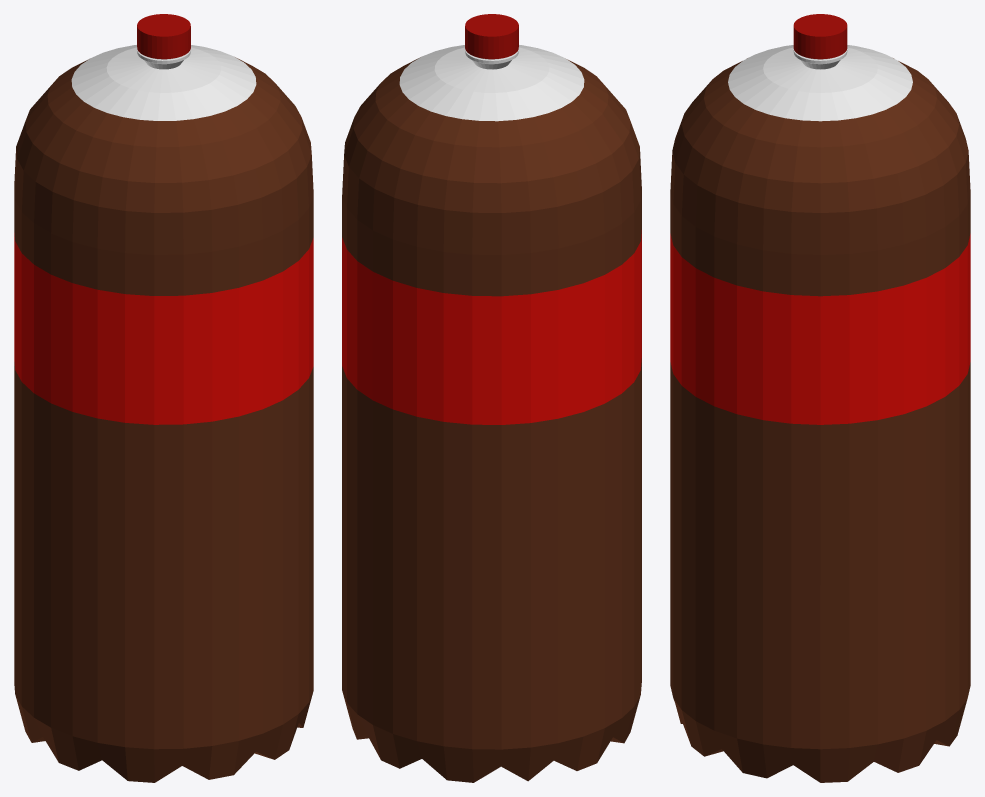
File: Bottles1.fbx
The picture shows the model from 3 angles, left to right: view 1: azimuth 30°, elevation 25°; view 2: azimuth 150°, elevation 25°; view 3: azimuth 270°, elevation 25°; orthographic projection.
Parts seen in each view (by area): view 1: Cylinder; view 2: Cylinder; view 3: Cylinder.
Boxes of the visible parts, left/top/right/bottom form: Cylinder: left=14, top=14, right=313, bottom=782; Cylinder: left=342, top=14, right=641, bottom=782; Cylinder: left=670, top=14, right=970, bottom=782.
Bounding box in the file's own units: 150 × 386 × 150.
